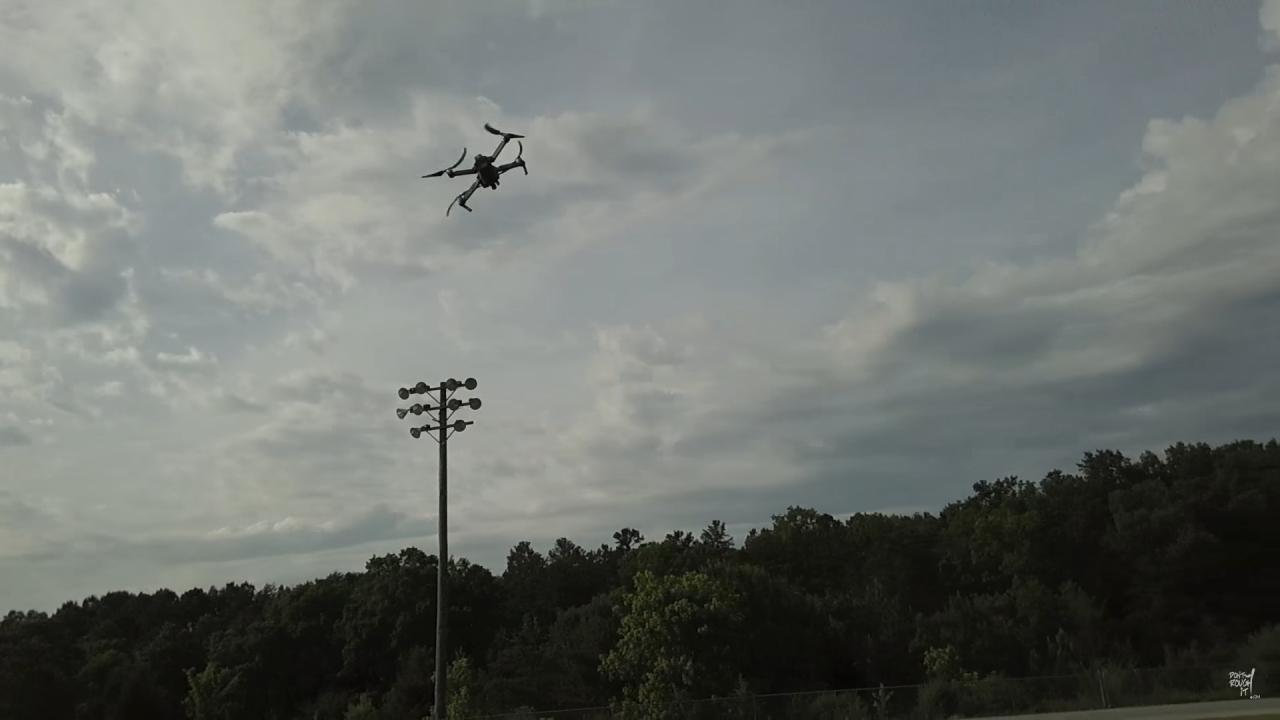Drone: (411, 115, 547, 226)
